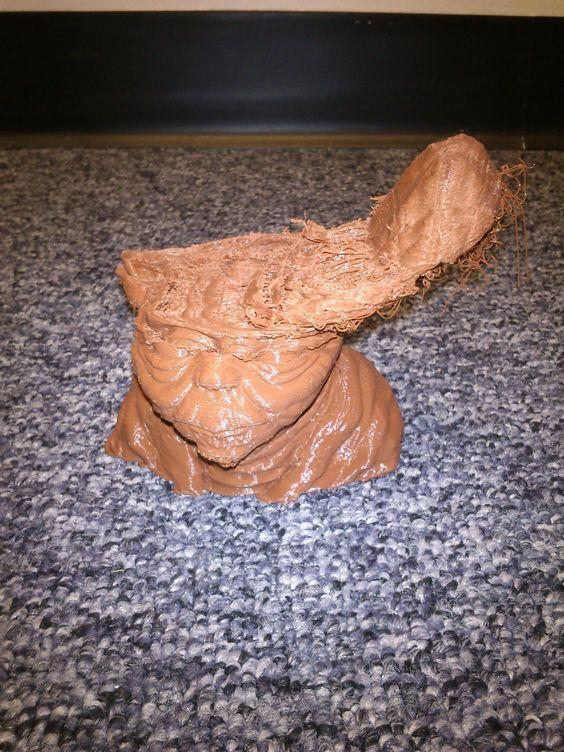Spaghetti: (346, 112, 525, 330), (97, 233, 386, 343)
